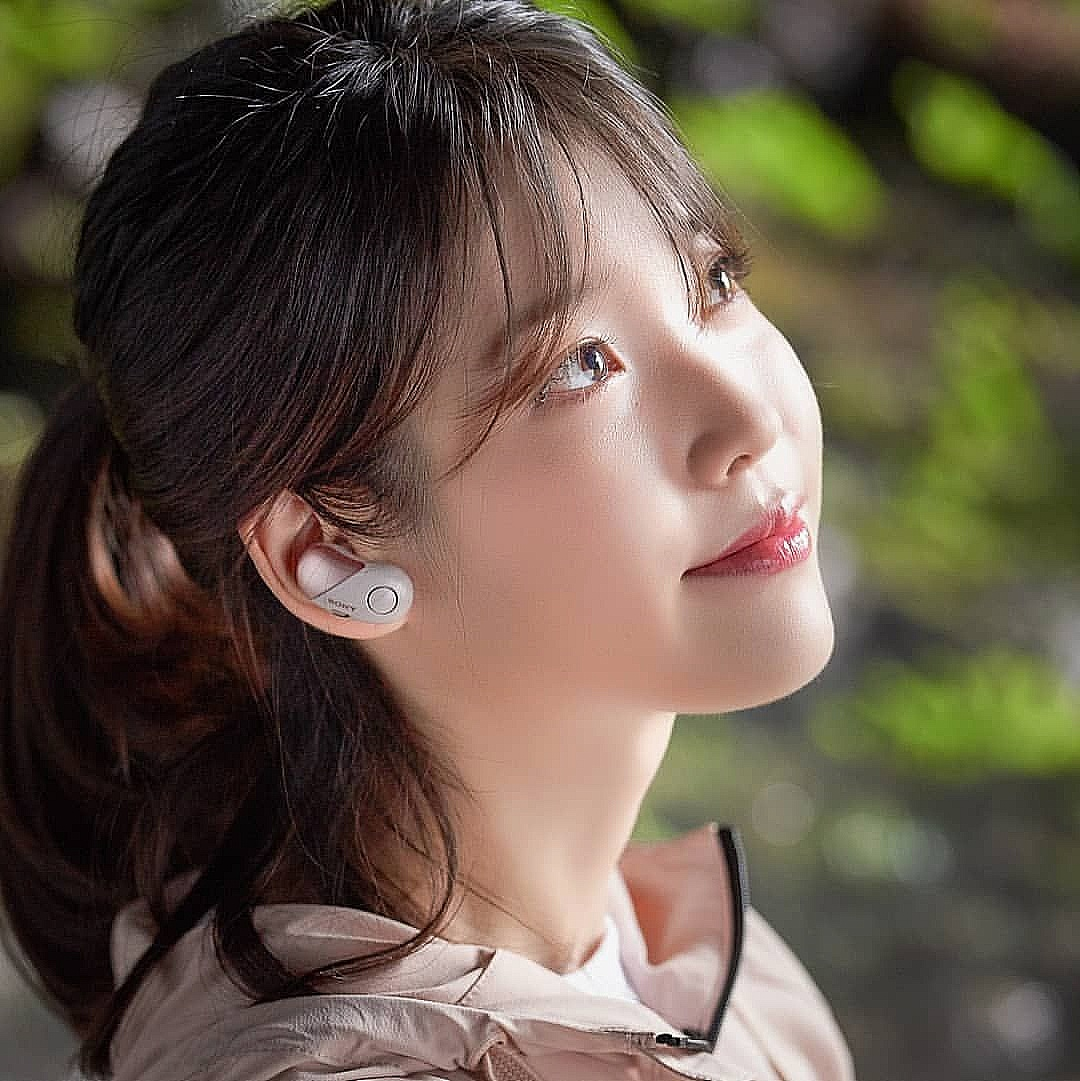earphone: (239, 486, 415, 639)
